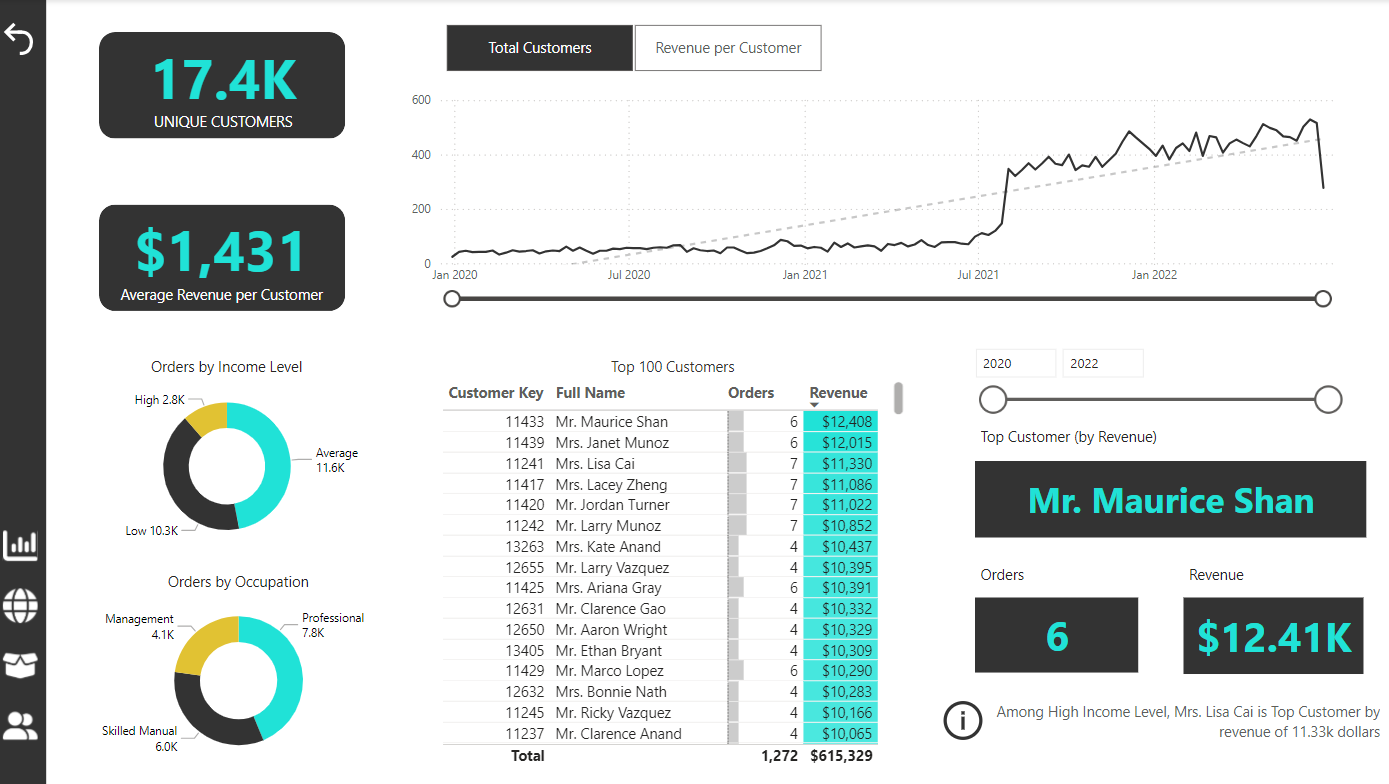

Layout of this report page (visuals, bound fields, positions):
{"tool":"powerbi","page":{"name":"Customer Details","canvas":[1280,720],"ordinal":3},"visuals":[{"type":"shape","box":[0,0,45,720],"z":0},{"type":"actionButton","box":[1,480.3,45.3,39.8],"z":1000,"group":"g1"},{"type":"shape","box":[92.9,29.9,225.2,97.7],"z":1000},{"type":"card","fields":{"Values":["Measure Table.Total Customers"]},"box":[78.8,0,256.7,157.5],"z":2000},{"type":"actionButton","box":[1,535.2,45.3,39.8],"z":2000,"group":"g1"},{"type":"actionButton","box":[1,590.1,45.3,39.8],"z":3000,"group":"g1"},{"type":"shape","box":[92.9,187.4,225.2,97.7],"z":3000},{"type":"card","fields":{"Values":["Measure Table.Average Revenue per Customer"]},"box":[77.2,157.5,256.7,157.5],"z":4000},{"type":"actionButton","box":[1,645,45.3,39.8],"z":4000,"group":"g1"},{"type":"lineChart","title":"Customers Trending","fields":{"Y":["Measure Table.Total Customers"],"Category":["Calendar Lookup.Date Hierarchy.Year","Calendar Lookup.Date Hierarchy.Start of Month","Calendar Lookup.Date Hierarchy.Start of Week","Calendar Lookup.Date Hierarchy.Date"]},"box":[373.3,78.2,865.9,207.2],"z":5000},{"type":"donutChart","title":"Orders by Income Level","fields":{"Y":["Measure Table.Total Orders"],"Category":["Customer Lookup.Income Level"]},"box":[77.5,327.2,263.7,183],"z":6000},{"type":"donutChart","title":"Orders by Occupation","fields":{"Y":["Measure Table.Total Orders"],"Category":["Customer Lookup.Occupation"]},"box":[79.1,522.7,282.3,183],"z":7000},{"type":"tableEx","title":"Top 100 Customers","fields":{"Values":["Customer Lookup.CustomerKey","Customer Lookup.FullName","Measure Table.Total Orders","Measure Table.Total Revenue"]},"box":[402.1,326.6,432.3,378.8],"z":8000},{"type":"card","fields":{"Values":["Customer Lookup.Top Customer"]},"box":[894.8,422.1,358.2,70],"z":9000},{"type":"card","fields":{"Values":["Measure Table.Total Orders (Top 1)"]},"box":[894.8,547.6,149.6,68.6],"z":10000},{"type":"card","fields":{"Values":["Measure Table.Total Revenue (Top 1)"]},"box":[1085.5,547.6,164.7,70],"z":11000},{"type":"textbox","box":[894.2,386.2,193.4,36.4],"z":12000},{"type":"textbox","box":[894.2,511.3,193.4,36.4],"z":13000},{"type":"textbox","box":[1086.1,511.3,193.4,36.4],"z":14000},{"type":"slicer","fields":{"Values":["Calendar Lookup.Year"]},"box":[882.6,309.7,356.2,77.1],"z":15000},{"type":"actionButton","box":[860.4,636.8,409,46.7],"z":16000},{"type":"actionButton","box":[0.7,16.5,45.3,39.8],"z":17000},{"type":"group","id":"g1","title":"Navigation Buttons","box":[1,480.3,45.3,204.5],"z":18000},{"type":"slicer","fields":{"Values":["Customer Metric Selection.Customer Metric Selection"]},"box":[385.6,16.5,392.5,56.3],"z":19000}]}

Visuals, with their boxes on the page's 1280x720 design canvas (x1, y1, x2, y2). These are canvas units, not pixel positions in the 1389x784 screenshot, which may show the page scaled, cropped or inside an application window:
shape: <bbox>0, 0, 45, 720</bbox>
actionButton: <bbox>1, 480, 46, 520</bbox>
shape: <bbox>93, 30, 318, 128</bbox>
card - Measure Table.Total Customers: <bbox>79, 0, 336, 158</bbox>
actionButton: <bbox>1, 535, 46, 575</bbox>
actionButton: <bbox>1, 590, 46, 630</bbox>
shape: <bbox>93, 187, 318, 285</bbox>
card - Measure Table.Average Revenue per Customer: <bbox>77, 158, 334, 315</bbox>
actionButton: <bbox>1, 645, 46, 685</bbox>
"Customers Trending" lineChart: <bbox>373, 78, 1239, 285</bbox>
"Orders by Income Level" donutChart: <bbox>78, 327, 341, 510</bbox>
"Orders by Occupation" donutChart: <bbox>79, 523, 361, 706</bbox>
"Top 100 Customers" tableEx: <bbox>402, 327, 834, 705</bbox>
card - Customer Lookup.Top Customer: <bbox>895, 422, 1253, 492</bbox>
card - Measure Table.Total Orders (Top 1): <bbox>895, 548, 1044, 616</bbox>
card - Measure Table.Total Revenue (Top 1): <bbox>1086, 548, 1250, 618</bbox>
textbox: <bbox>894, 386, 1088, 423</bbox>
textbox: <bbox>894, 511, 1088, 548</bbox>
textbox: <bbox>1086, 511, 1280, 548</bbox>
slicer - Calendar Lookup.Year: <bbox>883, 310, 1239, 387</bbox>
actionButton: <bbox>860, 637, 1269, 684</bbox>
actionButton: <bbox>1, 16, 46, 56</bbox>
"Navigation Buttons" group: <bbox>1, 480, 46, 685</bbox>
slicer - Customer Metric Selection.Customer Metric Selection: <bbox>386, 16, 778, 73</bbox>
